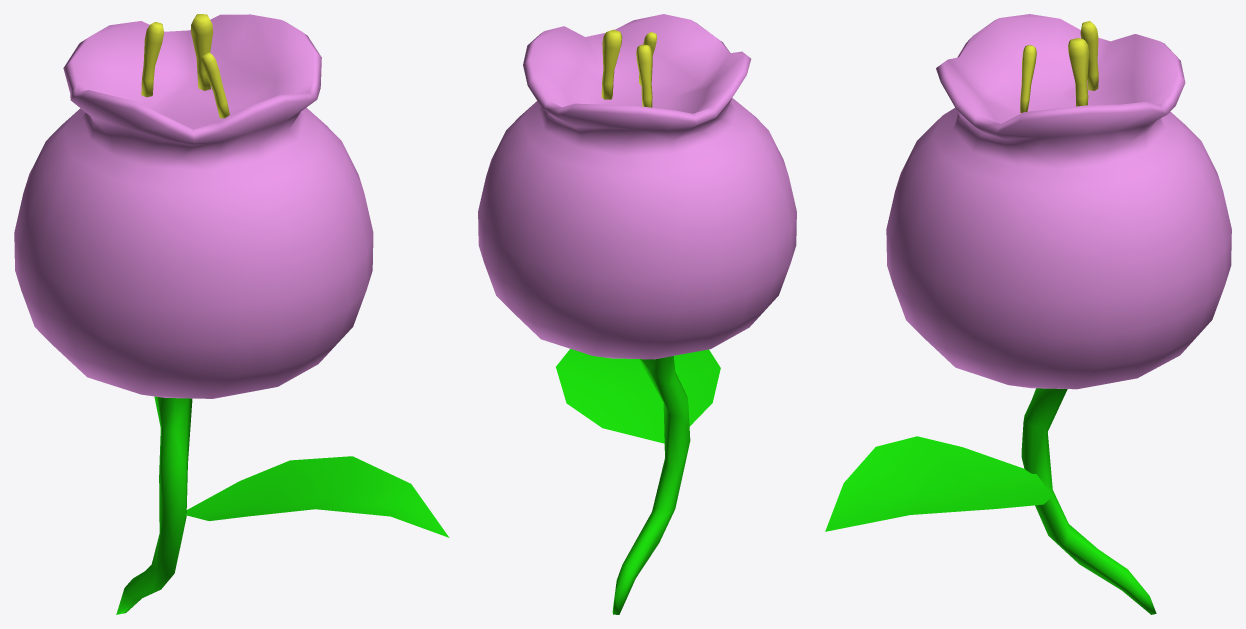
File: Flora.fbx
3 views of the same model, side by side, from view 1: azimuth 30°, elevation 25°; view 2: azimuth 150°, elevation 25°; view 3: azimuth 270°, elevation 25° (orthographic). The views are drawn at different scales.
Visible parts, largest first — view 1: Bud, Stem; view 2: Bud, Stem; view 3: Bud, Stem.
Part boxes in pixels (<box>): Bud: <box>14,14,373,398</box>; Stem: <box>116,396,449,614</box>; Bud: <box>478,14,796,359</box>; Stem: <box>556,349,720,614</box>; Bud: <box>886,14,1231,389</box>; Stem: <box>825,388,1156,614</box>.
Size of the model in its own units: 134 by 216 by 114.
